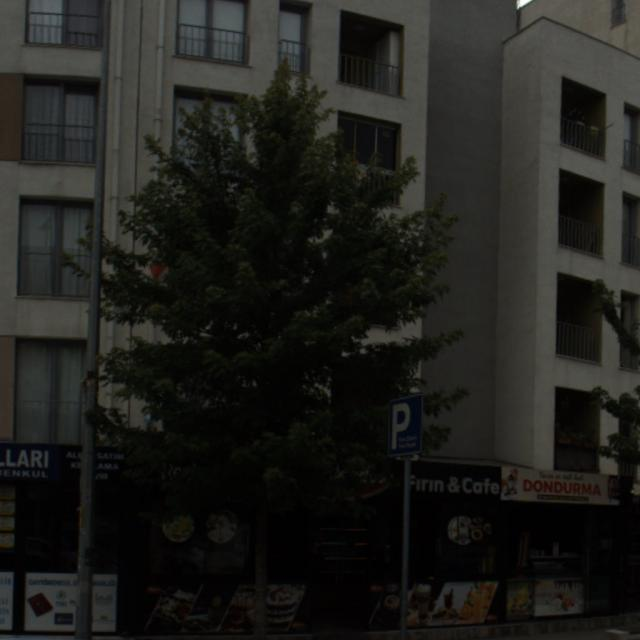SignStore: (290, 459, 501, 499), (5, 444, 128, 486), (503, 466, 620, 505)
